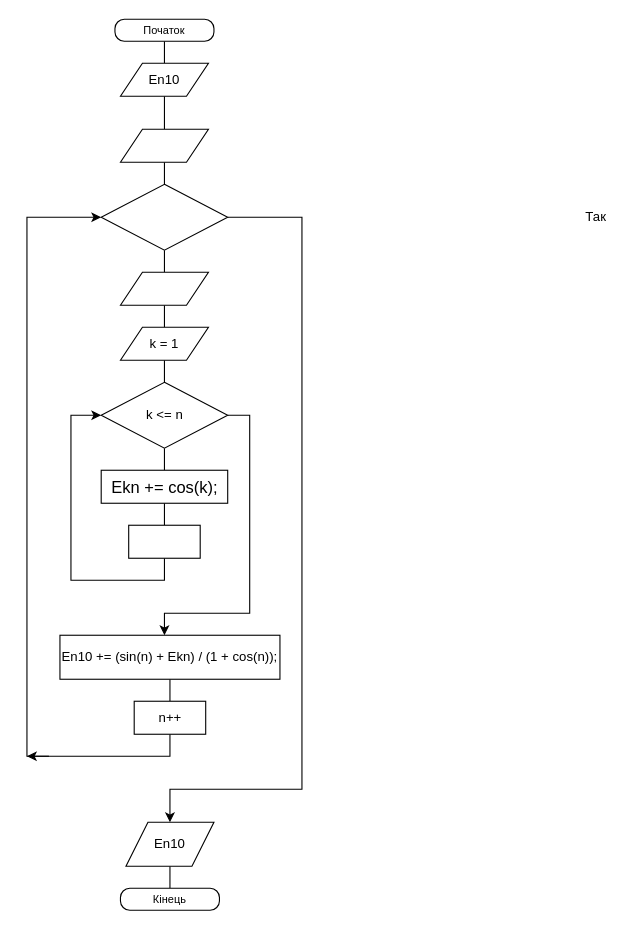
This 635x930 diagram has some shape labels left out. Each missing label, with the box of its shape:
Ekn: (119, 271, 208, 305)
k++: (128, 524, 200, 558)
n <= 10: (100, 183, 228, 250)
n = 1: (119, 128, 208, 162)
